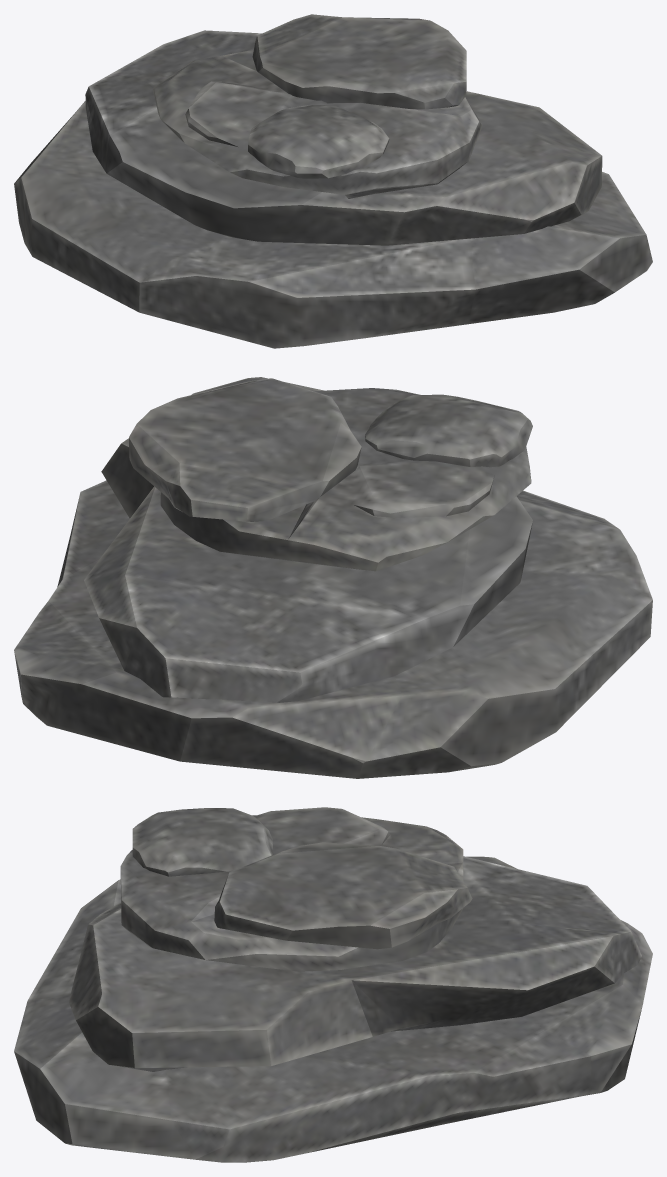
Rendered from RockGroup03_Dream.glb.
3 views of the same model, one above another, from view 1: azimuth 30°, elevation 25°; view 2: azimuth 150°, elevation 25°; view 3: azimuth 270°, elevation 25° (orthographic). The views are drawn at different scales.
Visible parts, largest first — view 1: rockgroup03_dream; view 2: rockgroup03_dream; view 3: rockgroup03_dream.
Part boxes in pixels (x1,y1,x2,y2): rockgroup03_dream: (14,14,652,348); rockgroup03_dream: (14,377,652,778); rockgroup03_dream: (14,807,652,1162).
Bounding box in the file's own units: 0.7897 × 0.2702 × 0.8157.
Materials: 1 (1 with a texture image).
